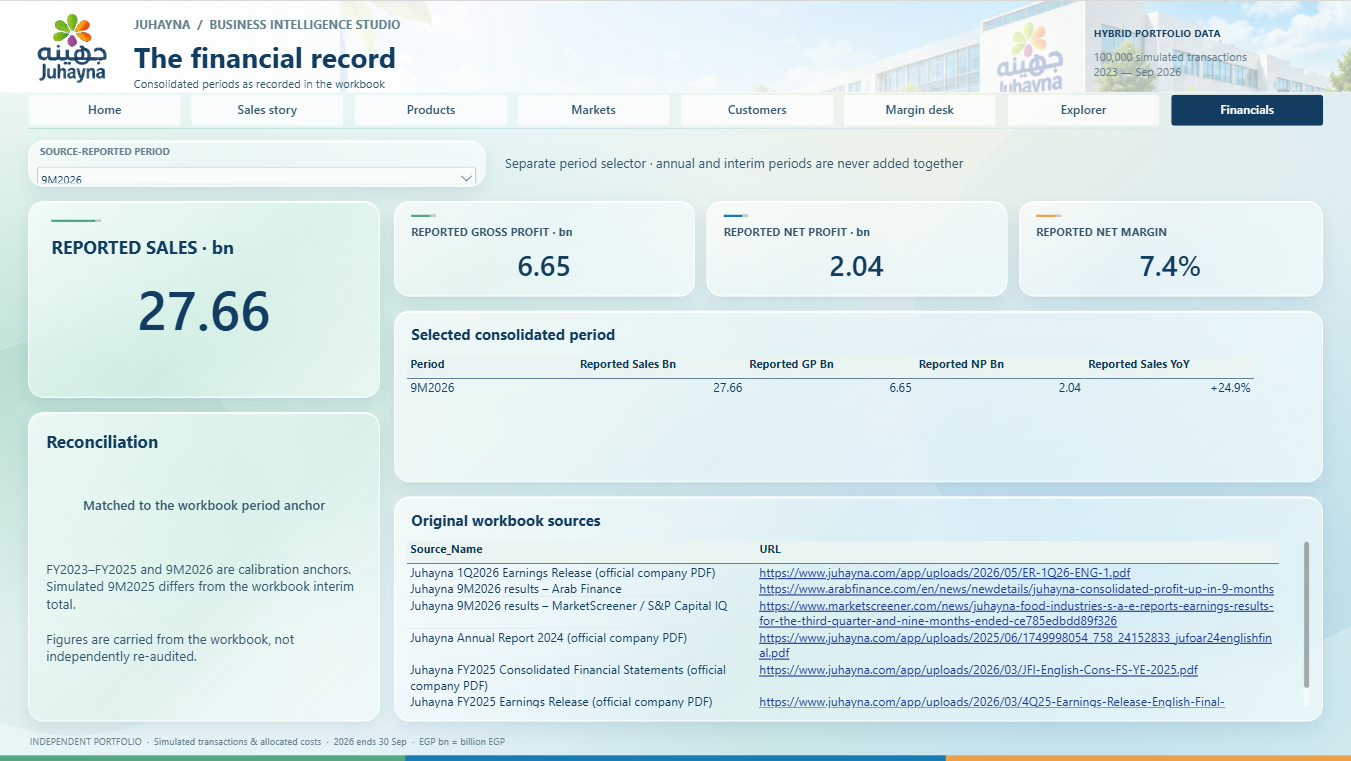

What the dashboard file says about the page in this screenshot:
{"tool":"powerbi","page":{"name":"Financials","canvas":[1920,1080],"ordinal":7},"visuals":[{"type":"textbox","box":[40,198,650,66],"z":1},{"type":"textbox","box":[40,284,500,280],"z":1},{"type":"textbox","box":[560,284,428,136],"z":1},{"type":"textbox","box":[1004,284,428,136],"z":1},{"type":"textbox","box":[1448,284,432,136],"z":1},{"type":"textbox","box":[560,440,1320,244],"z":1},{"type":"textbox","box":[40,584,500,440],"z":1},{"type":"textbox","box":[560,704,1320,320],"z":1},{"type":"slicer","fields":{"Values":["Dim_Period.Period"]},"box":[48,231,634,28],"z":10},{"type":"card","fields":{"Values":["_Measures.Reported GP Bn"]},"box":[578,349,392,54],"z":10},{"type":"card","fields":{"Values":["_Measures.Reported NP Bn"]},"box":[1022,349,392,54],"z":10},{"type":"card","fields":{"Values":["_Measures.Reported Net Margin"]},"box":[1466,349,396,54],"z":10},{"type":"card","fields":{"Values":["_Measures.Reported Sales Bn"]},"box":[64,384,452,98],"z":10},{"type":"tableEx","fields":{"Values":["Dim_Period.Period","_Measures.Reported Sales Bn","_Measures.Reported GP Bn","_Measures.Reported NP Bn","_Measures.Reported Sales YoY"]},"box":[578,504,1284,160],"z":10},{"type":"card","fields":{"Values":["_Measures.Reconciliation Status"]},"box":[64,662,452,112],"z":10},{"type":"tableEx","fields":{"Values":["Reference_Sources.Source_Name","Reference_Sources.URL"]},"box":[578,768,1284,236],"z":10},{"type":"textbox","box":[190,21,1110,34],"z":20},{"type":"textbox","box":[1555,34,325,30],"z":20},{"type":"textbox","box":[190,52,1200,68],"z":20},{"type":"textbox","box":[1555,68,325,49],"z":20},{"type":"textbox","box":[190,107,1320,32],"z":20},{"type":"textbox","box":[56,201,618,29],"z":20},{"type":"textbox","box":[718,216,1120,36],"z":20},{"type":"textbox","box":[584,304,34,3],"z":20},{"type":"textbox","box":[1028,304,34,3],"z":20},{"type":"textbox","box":[1472,304,34,3],"z":20},{"type":"textbox","box":[72,310,70,3],"z":20},{"type":"textbox","box":[584,316,380,32],"z":20},{"type":"textbox","box":[1028,316,380,32],"z":20},{"type":"textbox","box":[1472,316,384,32],"z":20},{"type":"textbox","box":[72,332,436,46],"z":20},{"type":"textbox","box":[584,459,1272,40],"z":20},{"type":"textbox","box":[66,609,448,44],"z":20},{"type":"textbox","box":[584,723,1272,40],"z":20},{"type":"textbox","box":[66,794,448,195],"z":20},{"type":"textbox","box":[42,1040,1780,28],"z":20},{"type":"actionButton","box":[40,134,216,44],"z":100},{"type":"actionButton","box":[272,134,216,44],"z":100},{"type":"actionButton","box":[504,134,216,44],"z":100},{"type":"actionButton","box":[736,134,216,44],"z":100},{"type":"actionButton","box":[968,134,216,44],"z":100},{"type":"actionButton","box":[1200,134,216,44],"z":100},{"type":"actionButton","box":[1432,134,216,44],"z":100},{"type":"actionButton","box":[1664,134,216,44],"z":100}]}

Visuals, with their boxes in screenshot pixels (x1, y1, x2, y2), scaled from the page's 1920x1080 canvas onto the 1351x761 screenshot:
textbox: bbox=(28, 140, 486, 186)
textbox: bbox=(28, 200, 380, 397)
textbox: bbox=(394, 200, 695, 296)
textbox: bbox=(706, 200, 1008, 296)
textbox: bbox=(1019, 200, 1323, 296)
textbox: bbox=(394, 310, 1323, 482)
textbox: bbox=(28, 412, 380, 722)
textbox: bbox=(394, 496, 1323, 722)
slicer - Dim_Period.Period: bbox=(34, 163, 480, 182)
card - _Measures.Reported GP Bn: bbox=(407, 246, 683, 284)
card - _Measures.Reported NP Bn: bbox=(719, 246, 995, 284)
card - _Measures.Reported Net Margin: bbox=(1032, 246, 1310, 284)
card - _Measures.Reported Sales Bn: bbox=(45, 271, 363, 340)
tableEx - Dim_Period.Period x _Measures.Reported Sales Bn: bbox=(407, 355, 1310, 468)
card - _Measures.Reconciliation Status: bbox=(45, 466, 363, 545)
tableEx - Reference_Sources.Source_Name x Reference_Sources.URL: bbox=(407, 541, 1310, 707)
textbox: bbox=(134, 15, 915, 39)
textbox: bbox=(1094, 24, 1323, 45)
textbox: bbox=(134, 37, 978, 85)
textbox: bbox=(1094, 48, 1323, 82)
textbox: bbox=(134, 75, 1063, 98)
textbox: bbox=(39, 142, 474, 162)
textbox: bbox=(505, 152, 1293, 178)
textbox: bbox=(411, 214, 435, 216)
textbox: bbox=(723, 214, 747, 216)
textbox: bbox=(1036, 214, 1060, 216)
textbox: bbox=(51, 218, 100, 221)
textbox: bbox=(411, 223, 678, 245)
textbox: bbox=(723, 223, 991, 245)
textbox: bbox=(1036, 223, 1306, 245)
textbox: bbox=(51, 234, 357, 266)
textbox: bbox=(411, 323, 1306, 352)
textbox: bbox=(46, 429, 362, 460)
textbox: bbox=(411, 509, 1306, 538)
textbox: bbox=(46, 559, 362, 697)
textbox: bbox=(30, 733, 1282, 753)
actionButton: bbox=(28, 94, 180, 125)
actionButton: bbox=(191, 94, 343, 125)
actionButton: bbox=(355, 94, 507, 125)
actionButton: bbox=(518, 94, 670, 125)
actionButton: bbox=(681, 94, 833, 125)
actionButton: bbox=(844, 94, 996, 125)
actionButton: bbox=(1008, 94, 1160, 125)
actionButton: bbox=(1171, 94, 1323, 125)
